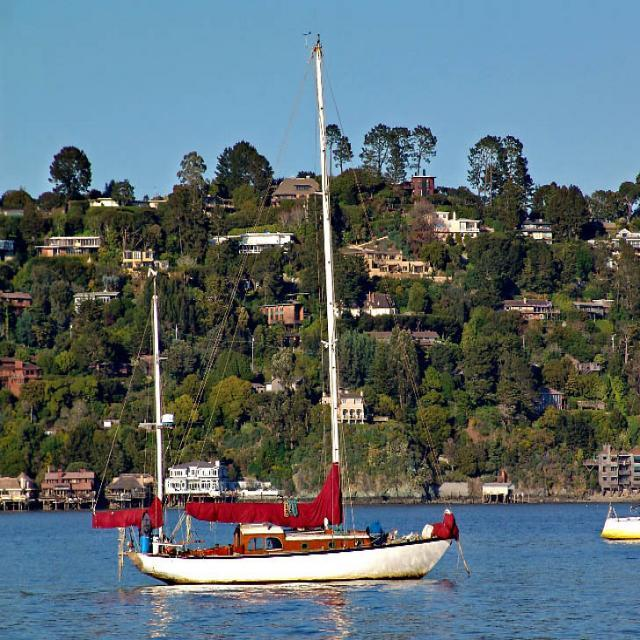Ship: (80, 50, 464, 589)
